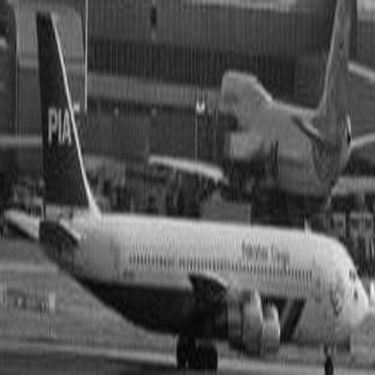airplane: (11, 56, 360, 366), (195, 2, 350, 205)
